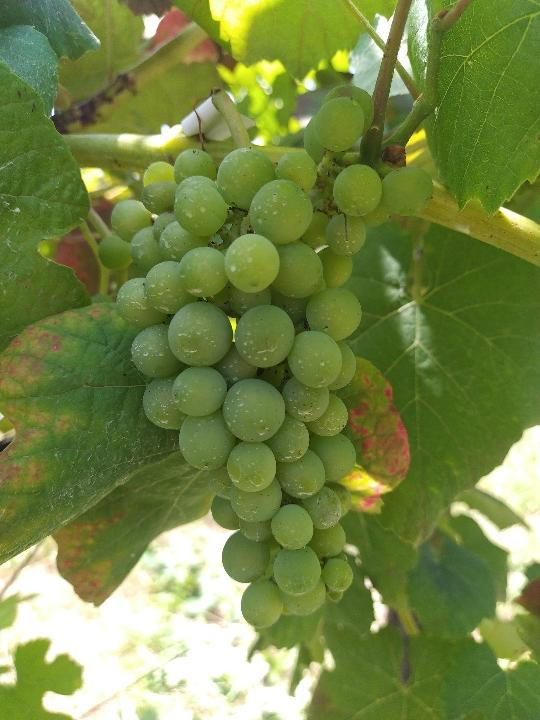grape: (96, 84, 436, 630)
